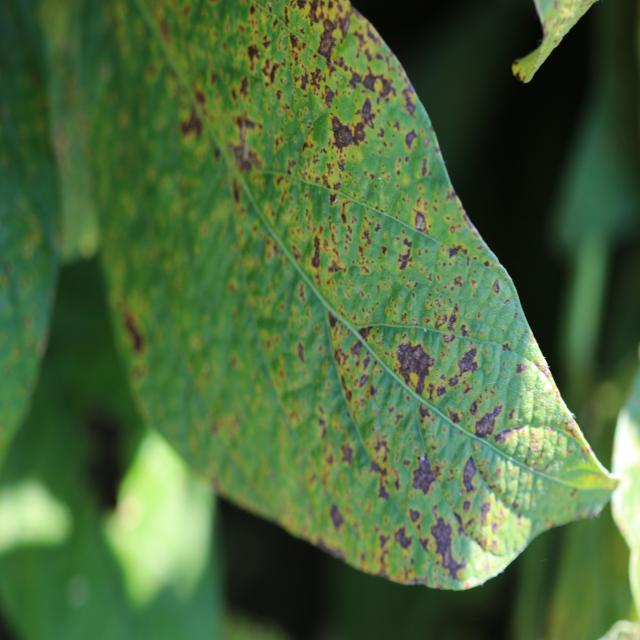Bacterial_Blight: (394, 321, 437, 401), (428, 515, 463, 576), (230, 119, 262, 172), (316, 14, 343, 62), (410, 453, 438, 495), (474, 404, 503, 439), (367, 456, 391, 497), (180, 103, 203, 141), (124, 313, 145, 352), (331, 116, 355, 149), (261, 54, 284, 86), (457, 346, 480, 376), (461, 454, 479, 492), (358, 96, 376, 128), (397, 240, 414, 271), (394, 525, 412, 550), (329, 502, 345, 530), (401, 89, 417, 117), (310, 235, 322, 270), (446, 304, 460, 330), (478, 500, 492, 526), (373, 437, 389, 459), (449, 243, 469, 260), (340, 200, 352, 228), (340, 443, 355, 465), (247, 43, 261, 66), (565, 420, 580, 441), (405, 127, 418, 150), (350, 339, 363, 362), (415, 212, 427, 232), (324, 87, 335, 107), (297, 341, 306, 364), (491, 279, 501, 295), (361, 229, 371, 245), (515, 362, 528, 374), (328, 312, 337, 329), (359, 373, 369, 388), (329, 192, 338, 206), (380, 245, 387, 256)
Soybean: (62, 0, 618, 590)
